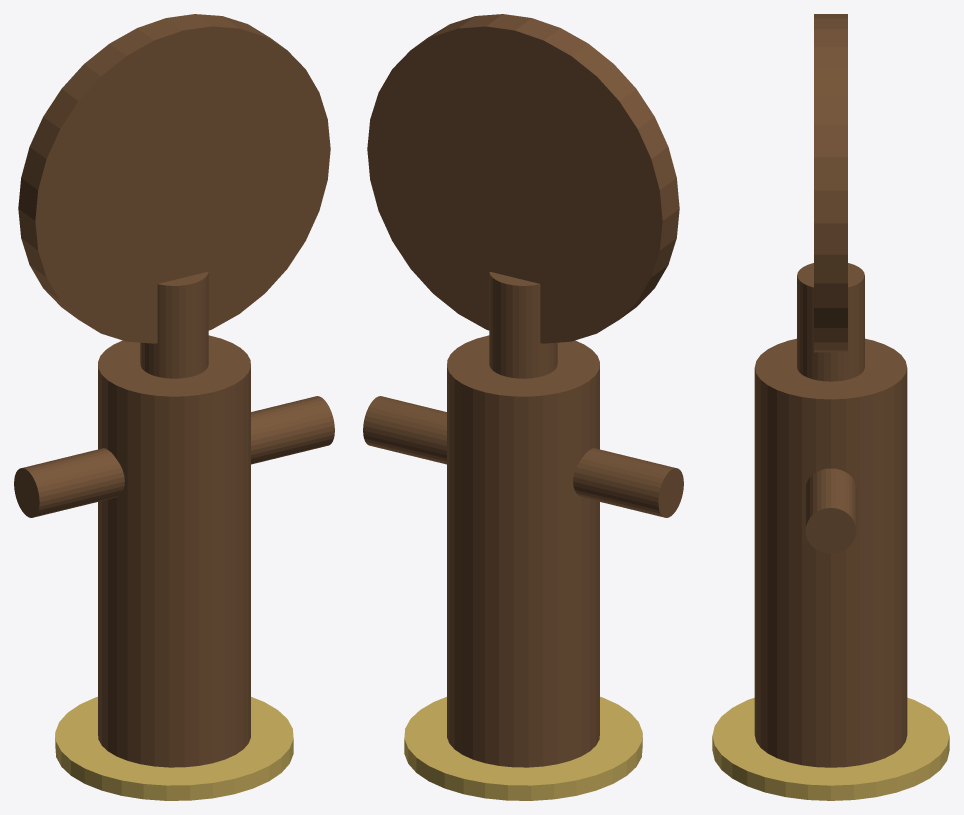
File: akuaba_doll.glb
3 renders of one model, left to right at view 1: azimuth 30°, elevation 25°; view 2: azimuth 150°, elevation 25°; view 3: azimuth 270°, elevation 25°, orthographic.
Visible parts, largest first — view 1: geometry_2, geometry_0, geometry_4, geometry_3, geometry_1; view 2: geometry_2, geometry_0, geometry_4, geometry_3, geometry_1; view 3: geometry_0, geometry_2, geometry_4, geometry_1, geometry_3.
Boxes of the visible parts, x1,y1,x2,y2 form: geometry_2: [18, 14, 330, 343]; geometry_0: [98, 335, 250, 767]; geometry_4: [55, 696, 293, 800]; geometry_3: [14, 396, 334, 517]; geometry_1: [140, 272, 208, 378]; geometry_2: [367, 14, 679, 343]; geometry_0: [447, 335, 599, 767]; geometry_4: [404, 696, 642, 800]; geometry_3: [363, 396, 683, 517]; geometry_1: [489, 272, 557, 378]; geometry_0: [754, 338, 907, 767]; geometry_2: [814, 14, 847, 352]; geometry_4: [712, 697, 949, 800]; geometry_1: [797, 263, 864, 381]; geometry_3: [805, 468, 856, 553].
Bounding box in the file's own units: 0.2 × 0.47 × 0.14.
